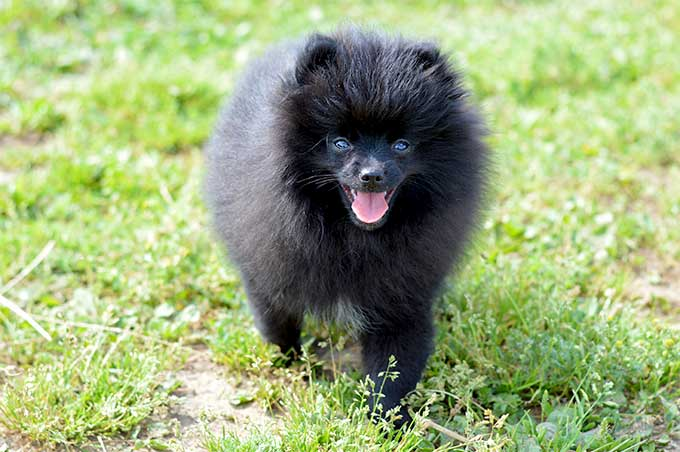pomeranian: (201, 20, 493, 405)
